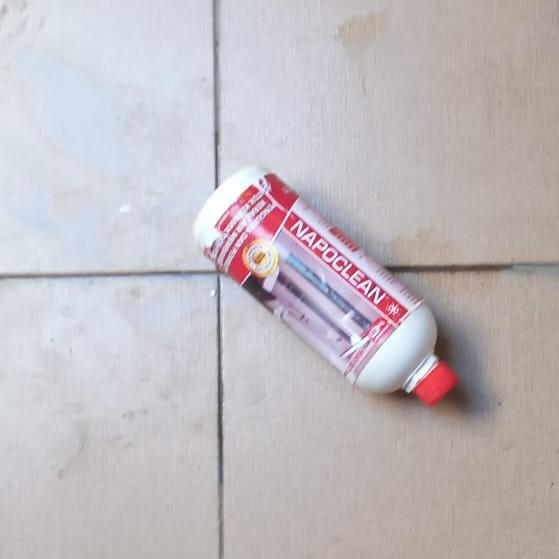Plastik: (193, 164, 458, 406)
